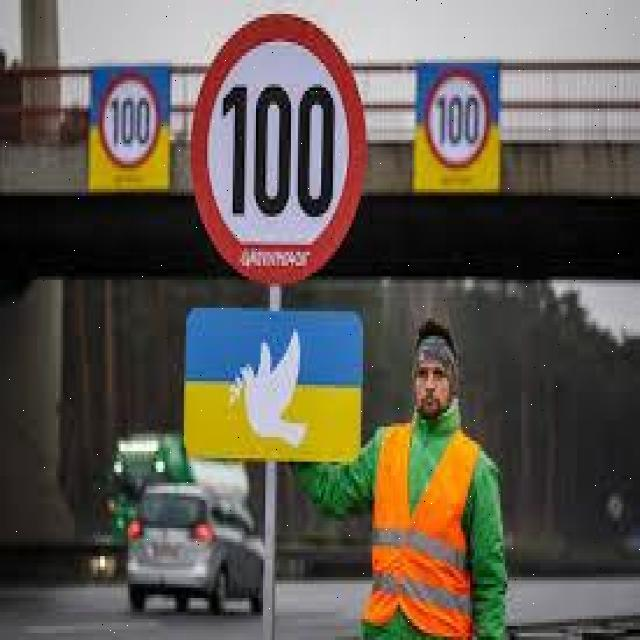speed limit 100: (188, 13, 366, 285), (422, 68, 491, 170), (99, 70, 161, 166)
